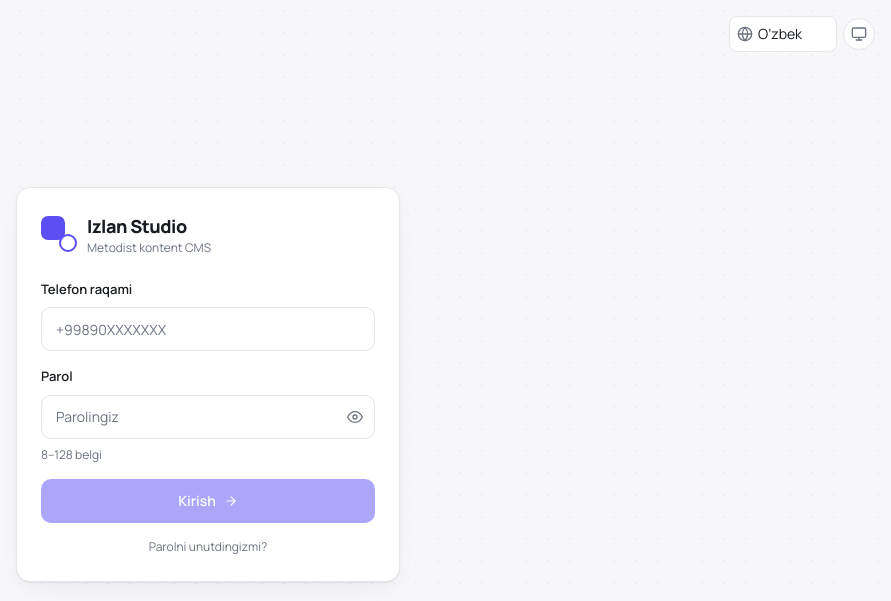
Test: Staff login — phone + password (TD-252) › WEB-AUTH-PWD-06 forgot-password opens the OTP recovery flow
What coordinates should you click on to do the following:
click the button "Parolni unutdingizmi?"
I would click on:
 (208, 546)
Its box is [41,538,375,554].
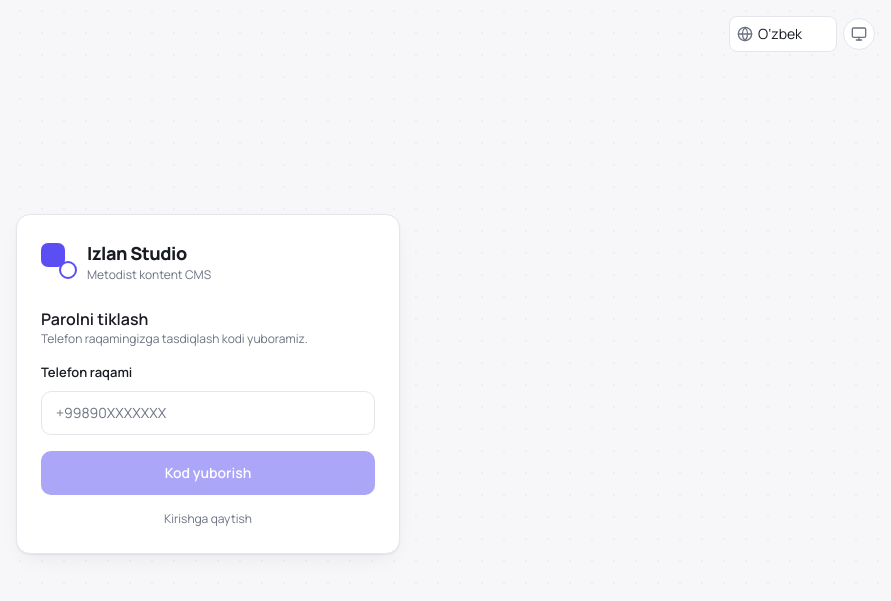
Now the heading "Parolni tiklash" is shown, box [41,308,148,330]
Now the button "Kod yuborish" is shown, box [41,451,375,495]
